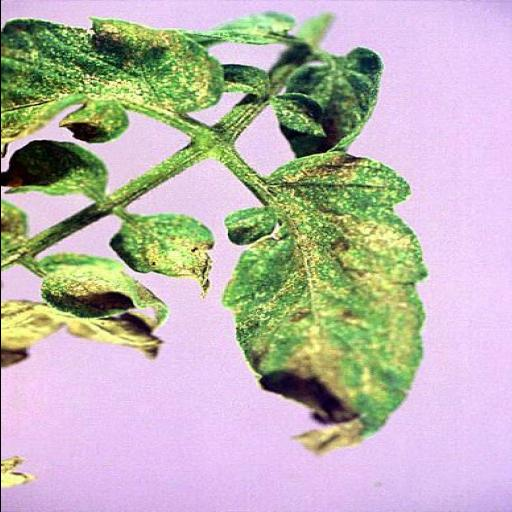Spider Mites: (222, 152, 433, 455), (0, 15, 226, 145), (36, 250, 170, 334), (107, 214, 219, 296)
